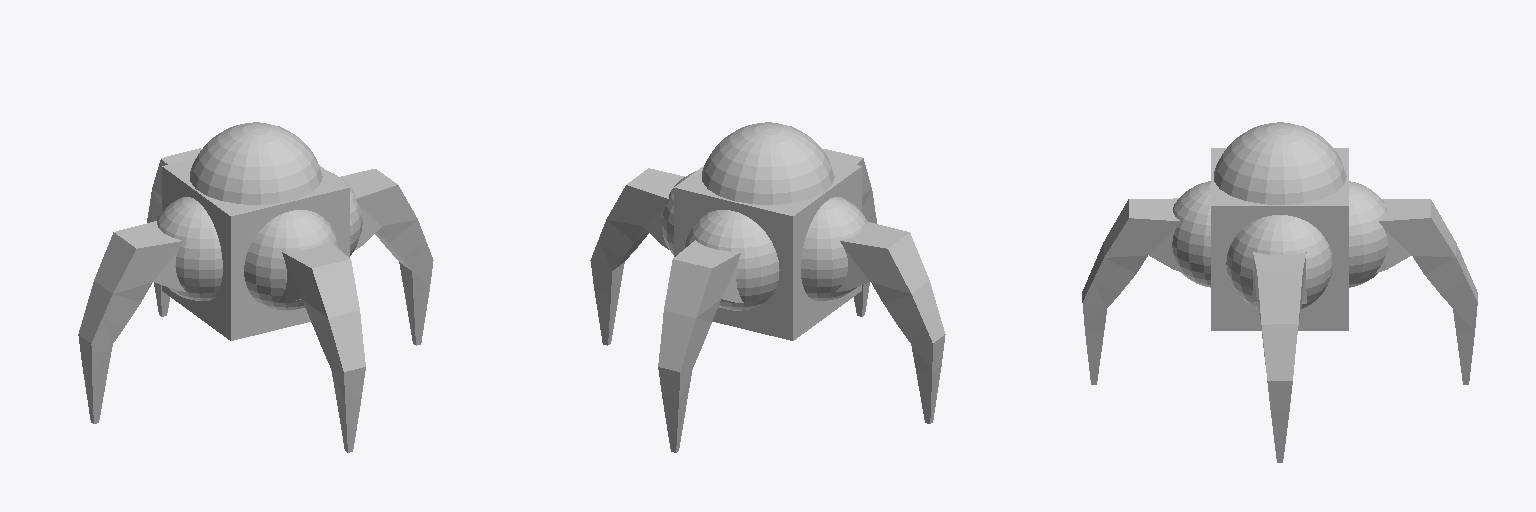
File: EnemyAnimation.obj
3 renders of one model, left to right at view 1: azimuth 30°, elevation 25°; view 2: azimuth 150°, elevation 25°; view 3: azimuth 270°, elevation 25°, orthographic.
Visible parts, largest first — view 1: body_Cube.001, leg.002_Plane.002, leg.003_Plane.003, Sphere.004_Sphere.005, leg_Plane, Sphere.003_Sphere.004, Sphere.002_Sphere.003, leg.001_Plane.001, Sphere_Sphere.001; view 2: body_Cube.001, leg.002_Plane.002, leg.001_Plane.001, Sphere.004_Sphere.005, leg_Plane, Sphere.001_Sphere.002, Sphere.002_Sphere.003, leg.003_Plane.003, Sphere_Sphere.001; view 3: body_Cube.001, Sphere.004_Sphere.005, leg.003_Plane.003, leg.001_Plane.001, leg_Plane, Sphere_Sphere.001, Sphere.003_Sphere.004, Sphere.001_Sphere.002.
Part boxes in pixels (x1,y1,x2,y2): body_Cube.001: (162,158,349,340); leg.002_Plane.002: (78,221,185,423); leg.003_Plane.003: (278,241,365,452); Sphere.004_Sphere.005: (190,122,322,204); leg_Plane: (340,169,433,345); Sphere.003_Sphere.004: (244,210,339,310); Sphere.002_Sphere.003: (157,197,222,300); leg.001_Plane.001: (147,148,201,316); Sphere_Sphere.001: (328,171,362,255); body_Cube.001: (674,158,861,340); leg.002_Plane.002: (836,222,945,423); leg.001_Plane.001: (658,240,743,452); Sphere.004_Sphere.005: (702,122,834,204); leg_Plane: (590,168,684,345); Sphere.001_Sphere.002: (684,210,779,310); Sphere.002_Sphere.003: (801,197,867,300); leg.003_Plane.003: (823,149,876,316); Sphere_Sphere.001: (662,171,695,254); body_Cube.001: (1211,148,1348,330); Sphere.004_Sphere.005: (1214,122,1346,204); leg.003_Plane.003: (1082,198,1182,384); leg.001_Plane.001: (1375,199,1477,384); leg_Plane: (1251,252,1307,462); Sphere_Sphere.001: (1226,215,1332,309); Sphere.003_Sphere.004: (1172,181,1210,287); Sphere.001_Sphere.002: (1349,181,1387,287).
Bounding box in the file's own units: 5.75 × 4.08 × 5.75.